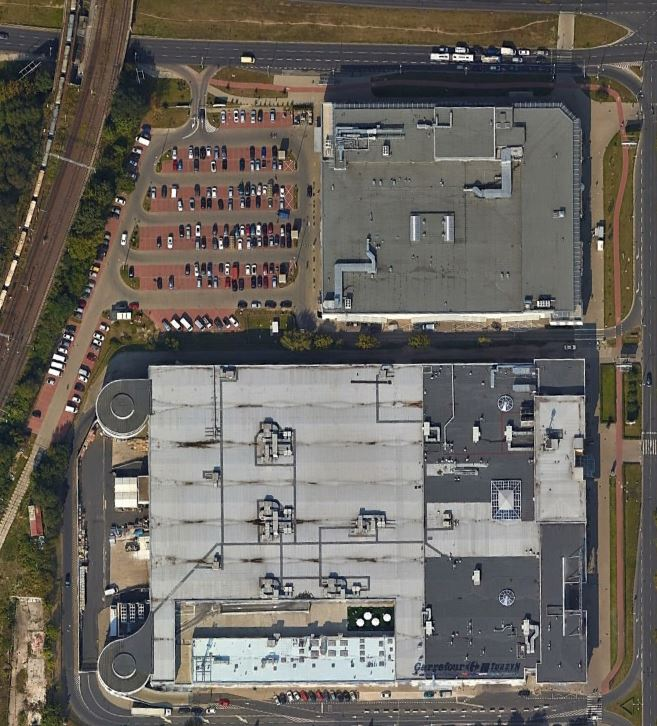shopping_center: (86, 354, 596, 703), (308, 96, 589, 332)
